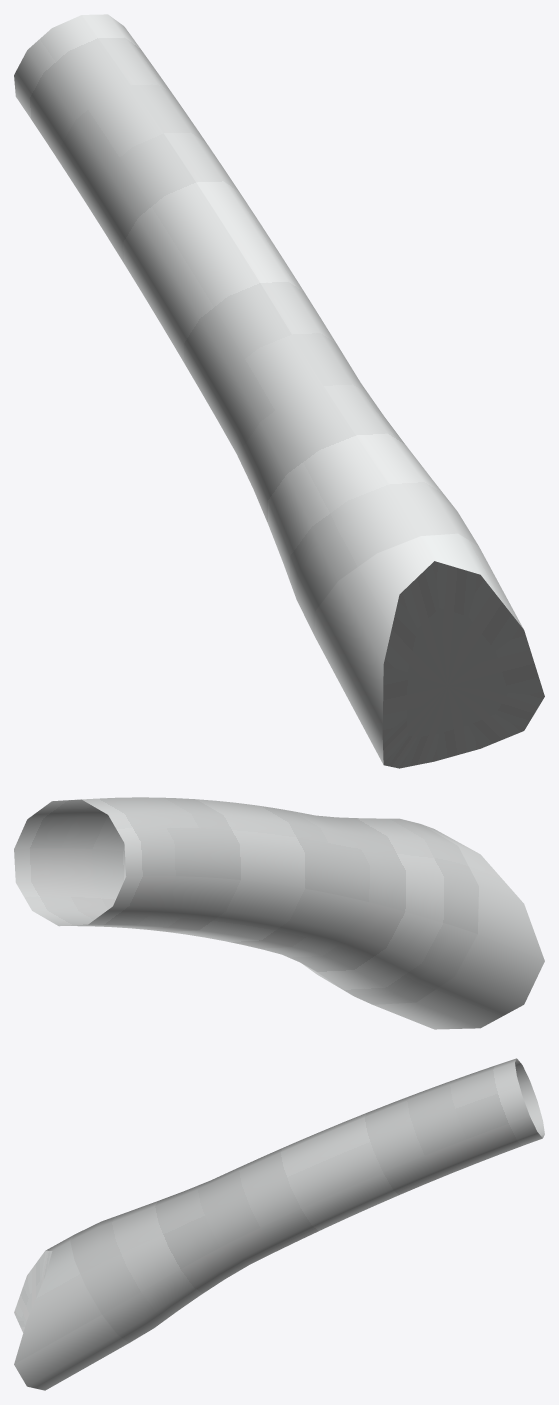
File: luminairearm_caltrans8ftdouble_c0_pedestal.obj
3 views of the same model, one above another, from view 1: azimuth 30°, elevation 25°; view 2: azimuth 150°, elevation 25°; view 3: azimuth 270°, elevation 25° (orthographic). The views are drawn at different scales.
Parts seen in each view (by area): view 1: luminairearm_caltrans8ftdouble_c0_pedestal; view 2: luminairearm_caltrans8ftdouble_c0_pedestal; view 3: luminairearm_caltrans8ftdouble_c0_pedestal.
Boxes of the visible parts, bbox=[...] form: luminairearm_caltrans8ftdouble_c0_pedestal: bbox=[14, 14, 544, 768]; luminairearm_caltrans8ftdouble_c0_pedestal: bbox=[14, 797, 544, 1029]; luminairearm_caltrans8ftdouble_c0_pedestal: bbox=[14, 1058, 544, 1390].
Size of the model in its own units: 0.3375 by 0.9703 by 1.46.
